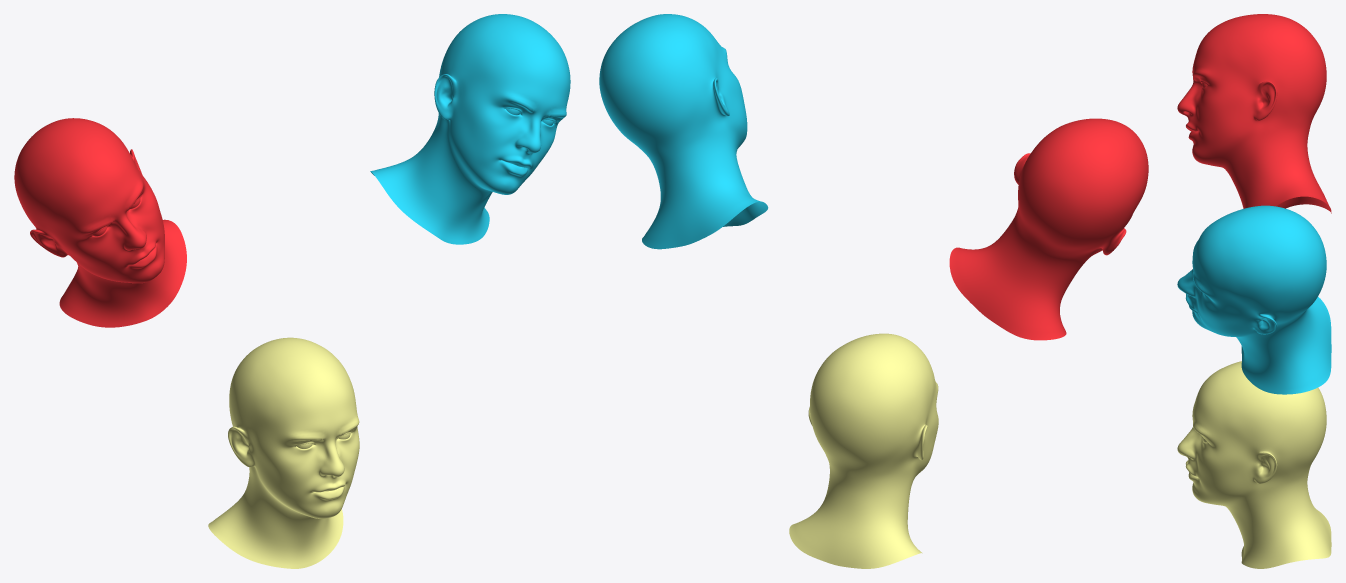
The model's file is Modelofinal.fbx.
3 renders of one model, left to right at view 1: azimuth 30°, elevation 25°; view 2: azimuth 150°, elevation 25°; view 3: azimuth 270°, elevation 25°, orthographic. The views are drawn at different scales.
Parts seen in each view (by area): view 1: FBHead, FBHead.002, FBHead.001; view 2: FBHead.002, FBHead, FBHead.001; view 3: FBHead.001, FBHead.002, FBHead.
Part boxes in pixels (x1=…): FBHead: x1=370, y1=14, x2=570, y2=244; FBHead.002: x1=208, y1=337, x2=359, y2=568; FBHead.001: x1=14, y1=118, x2=186, y2=327; FBHead.002: x1=789, y1=333, x2=938, y2=568; FBHead: x1=599, y1=14, x2=768, y2=249; FBHead.001: x1=949, y1=118, x2=1148, y2=340; FBHead.001: x1=1177, y1=14, x2=1331, y2=213; FBHead.002: x1=1177, y1=361, x2=1331, y2=568; FBHead: x1=1177, y1=205, x2=1331, y2=394.
Bounding box in the file's own units: 814 × 708 × 223.
